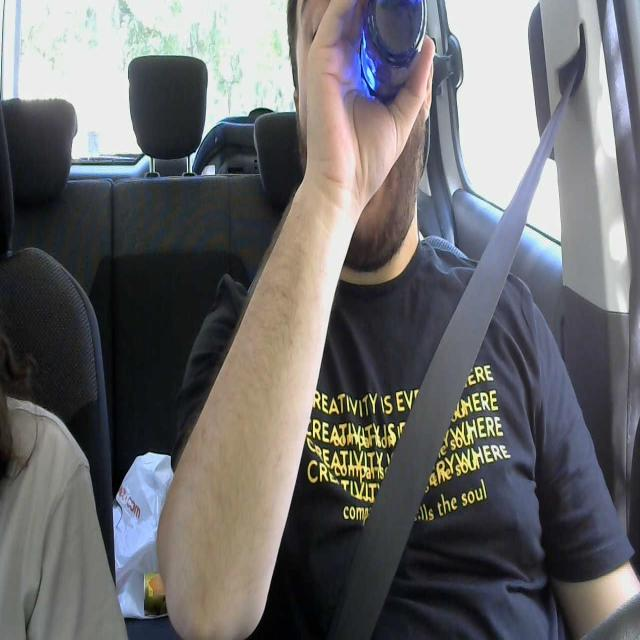3: (370, 182, 533, 562)
Seatbelt: (243, 0, 442, 207)
